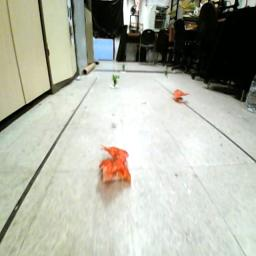herb: (111, 74, 121, 88)
wild: (100, 146, 136, 189), (174, 90, 191, 104)
